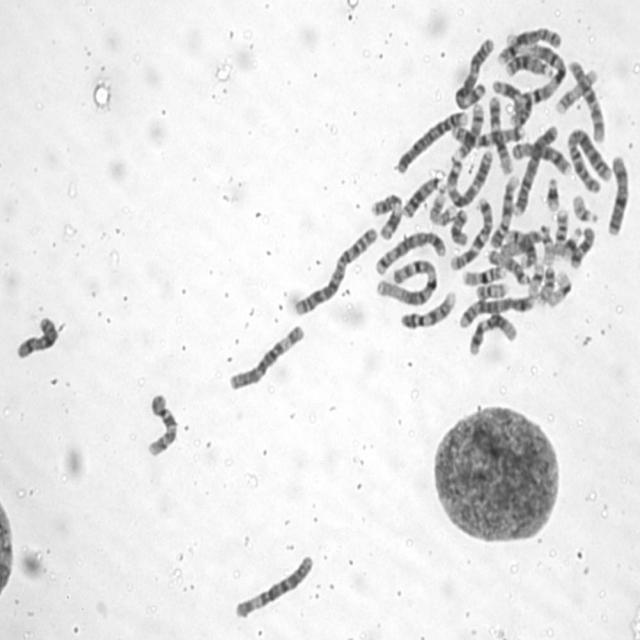A1: (504, 34, 568, 120), (374, 255, 439, 308)
A2: (290, 221, 380, 318), (564, 122, 612, 194)
A3: (452, 33, 496, 109), (443, 144, 494, 208)
B4: (392, 106, 470, 175), (510, 118, 560, 217)
B5: (372, 227, 448, 276), (456, 292, 535, 330)
C10: (566, 54, 608, 142), (143, 387, 180, 459)
C11: (490, 74, 533, 127), (368, 188, 404, 242)
C12: (466, 309, 519, 357), (486, 91, 515, 176)
C6: (225, 319, 308, 392), (231, 550, 316, 620)
C7: (447, 193, 494, 271), (450, 120, 526, 148)
C8: (495, 22, 564, 65), (509, 136, 572, 176)
C9: (398, 285, 458, 331), (489, 170, 521, 250)
D13: (400, 170, 446, 220), (502, 52, 554, 78)
D14: (453, 100, 486, 159), (502, 226, 538, 269)
D15: (486, 244, 532, 286), (498, 224, 545, 262)
E16: (460, 262, 508, 286), (552, 204, 570, 258)
E17: (553, 64, 600, 115), (426, 184, 458, 227)
E18: (568, 222, 596, 270), (448, 206, 470, 247)
F19: (544, 266, 574, 308), (526, 258, 546, 296)
F20: (535, 264, 557, 306), (473, 278, 510, 301)
G21: (560, 223, 583, 259), (543, 172, 561, 213)
G22: (570, 190, 600, 224), (538, 221, 555, 266)
X: (604, 150, 632, 237), (13, 312, 61, 361)
